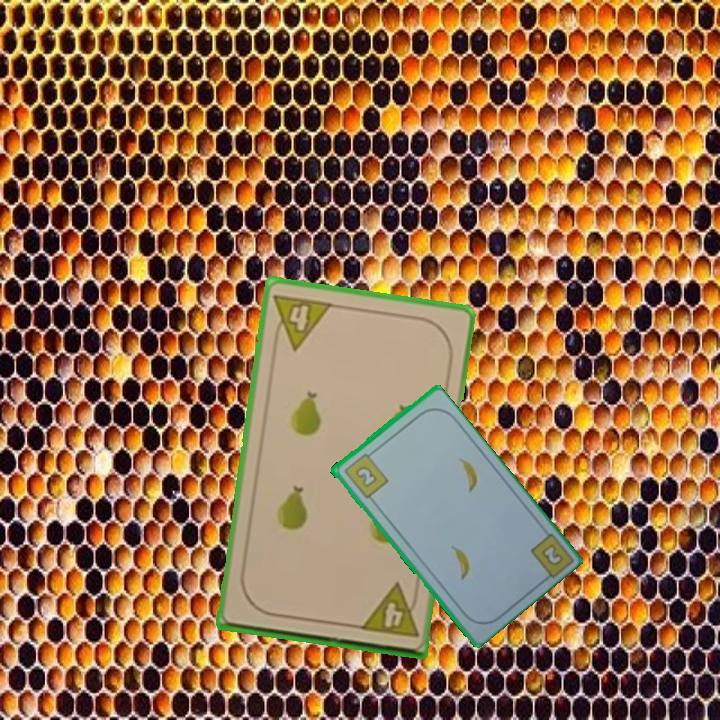2b: (526, 528, 574, 585), (340, 448, 391, 501)
4p: (268, 290, 335, 353), (356, 580, 422, 641)
